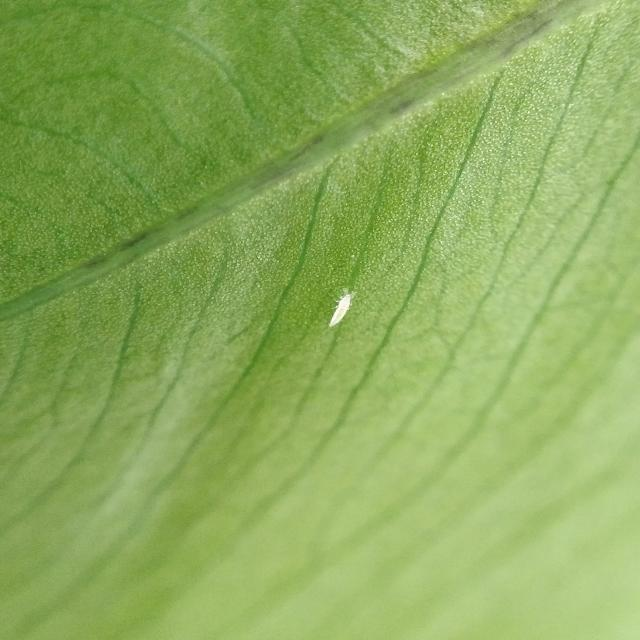Thrip-Larva-: (316, 283, 366, 335)
